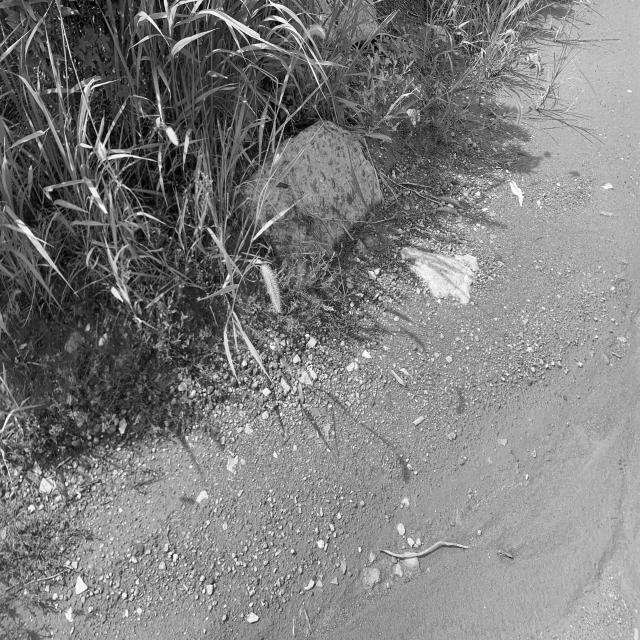Stone: (242, 121, 382, 258)
